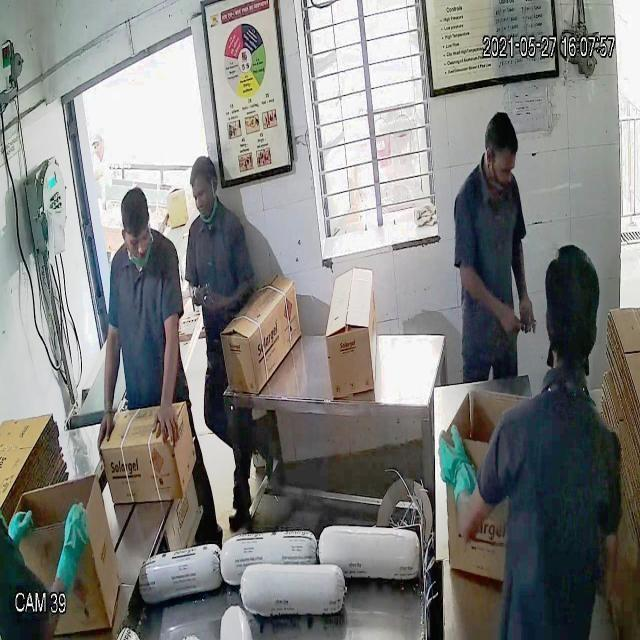hairnet: (484, 159, 517, 200), (127, 230, 154, 268), (194, 193, 219, 224)
